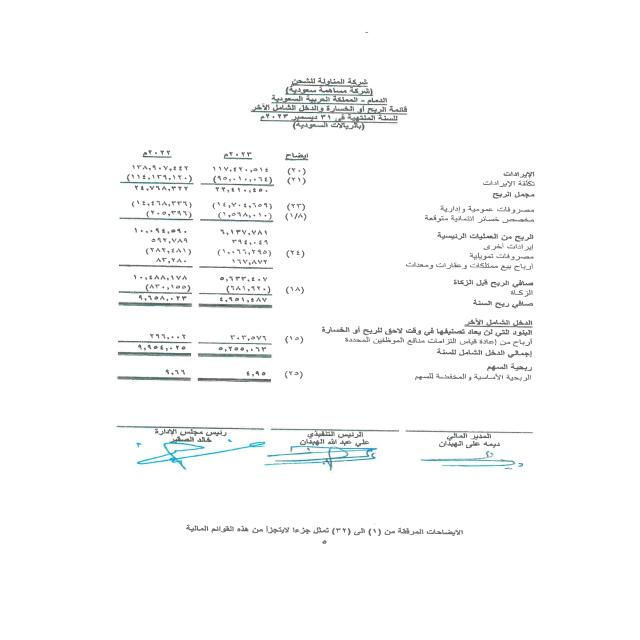financial_sheets: (237, 106, 412, 113)
table: (104, 142, 326, 400)
